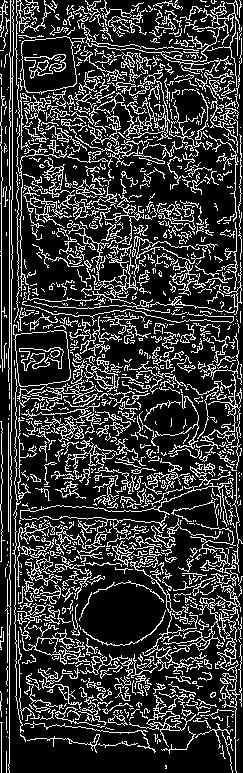hplug: (131, 378, 213, 456), (141, 68, 219, 141)
scal: (69, 560, 177, 663)
vplug: (37, 315, 105, 508), (55, 38, 123, 201)
